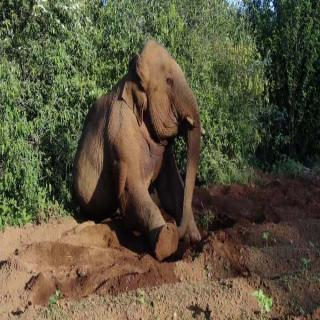Elephant: (71, 38, 207, 260)
